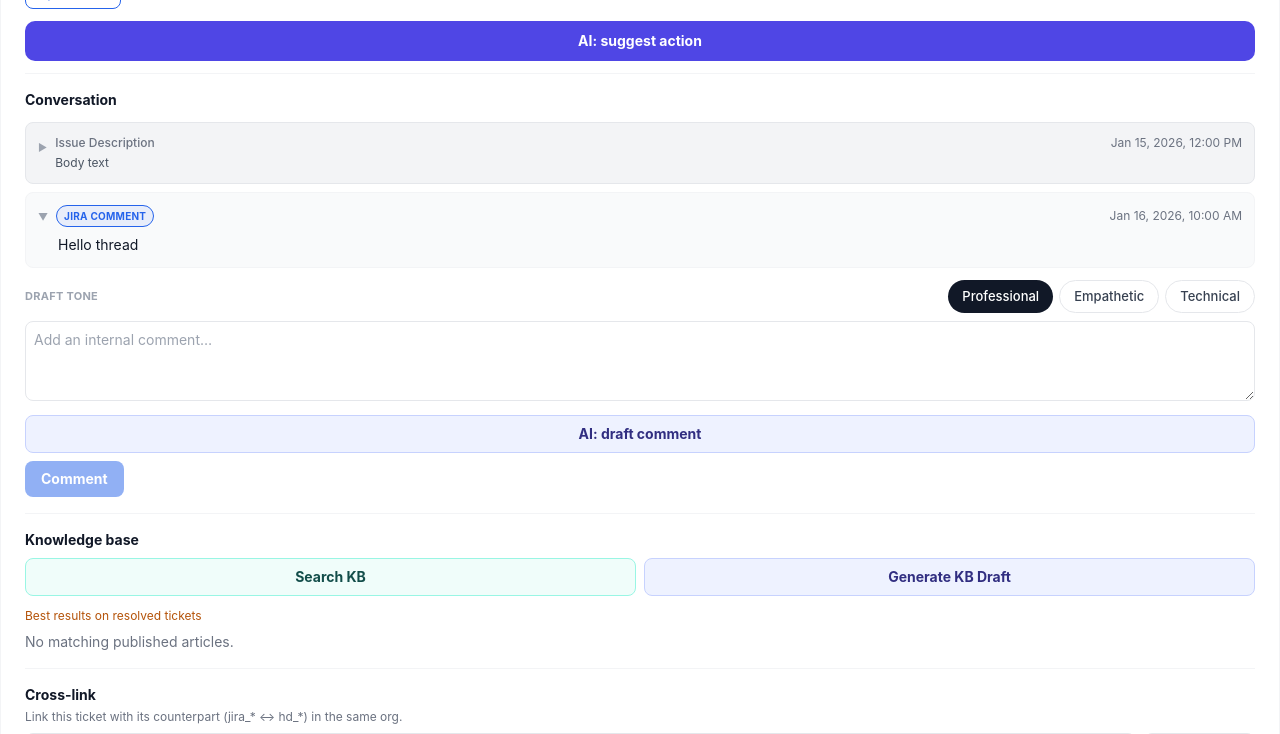
TicketDetailContent › generates KB draft when button clicked
This screenshot has width=1280, height=734.
(page scrolled)
Click the button "Generate KB Draft" at (950, 577), box [644,558,1255,596]
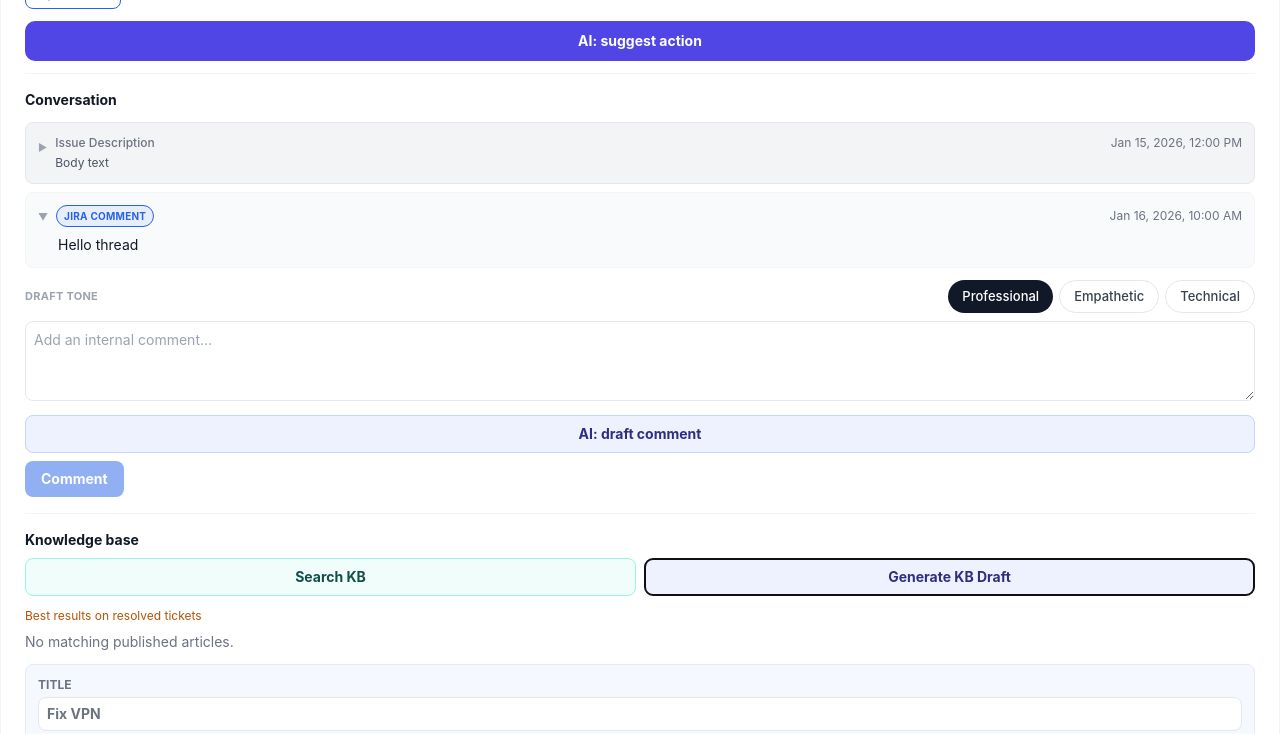
Expected: the field showing "Fix VPN" is shown, [38,697,1242,731]
